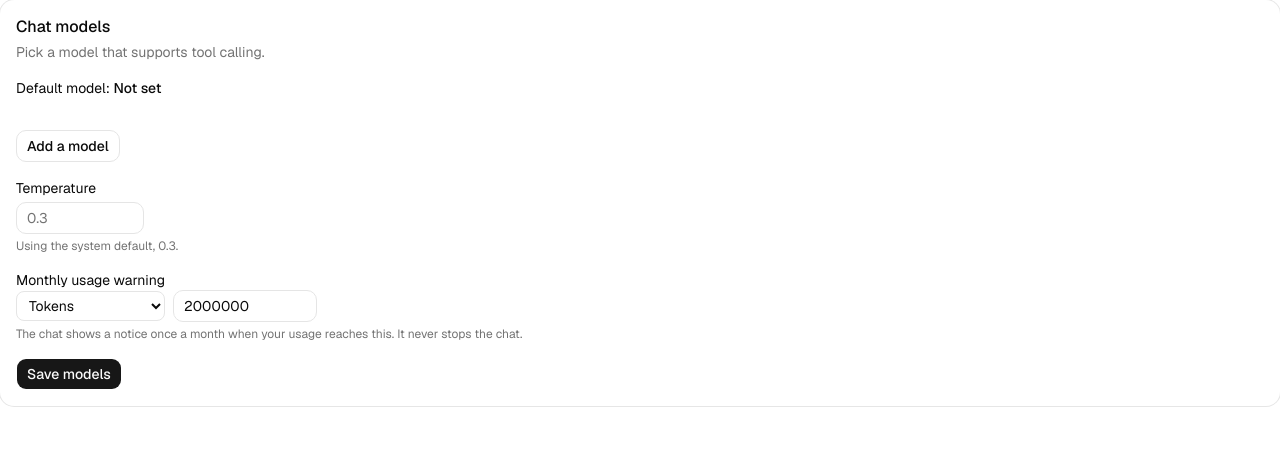
Test: ModelSettingsSection › the usage warning threshold › shows a saved token threshold and can turn it off
Check: the number field named "Warning amount" holds "2000000", box [173,290,317,322]
Select "No warning" in the dropdown named "Warning unit" at (90, 306), box [16,291,165,321]
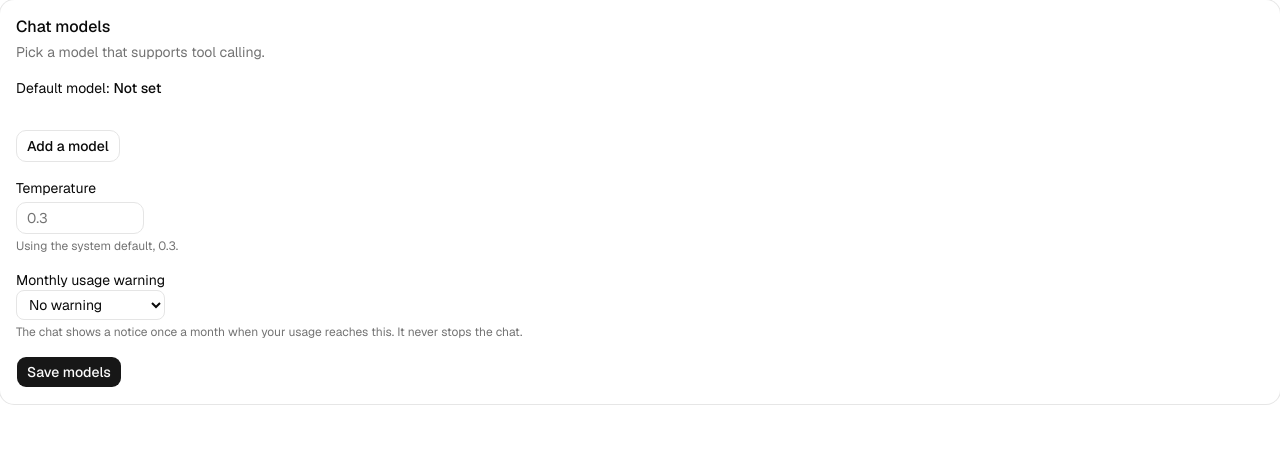
Click the button "Save models".
click(69, 372)  # box [16,356,122,388]
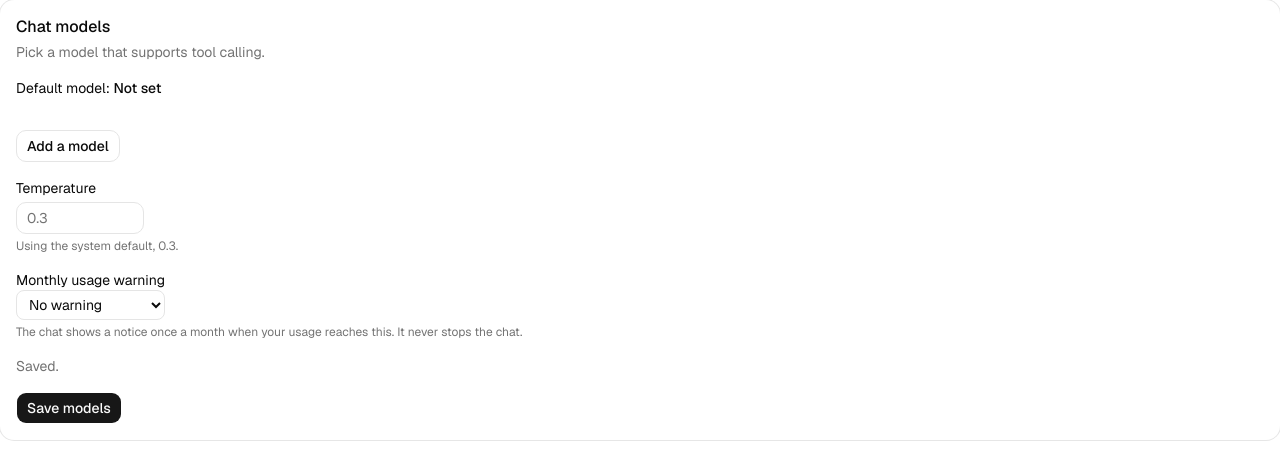
Check: the text "Saved." is shown, box [16,357,58,375]
